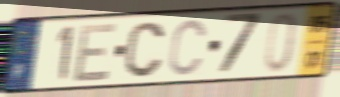0: (262, 10, 300, 75)
1: (55, 23, 75, 84)
7: (219, 11, 264, 79)
C: (122, 20, 167, 80), (167, 17, 209, 79)
E: (71, 20, 120, 85)
